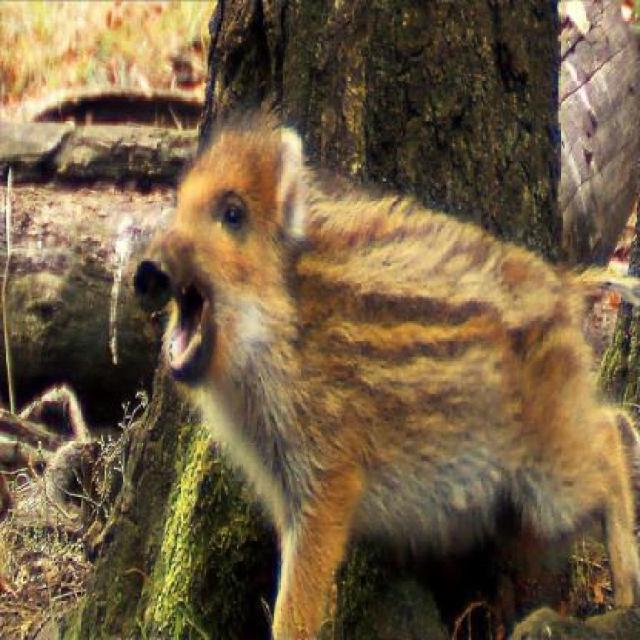wildboar: (124, 108, 640, 639)
